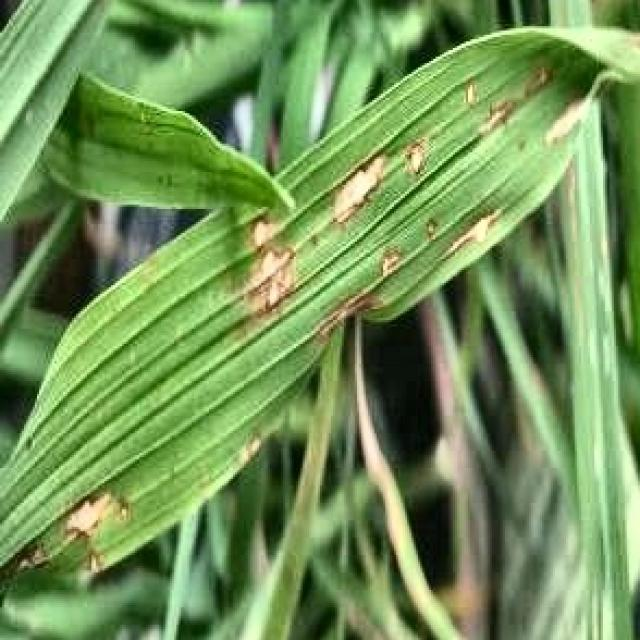Leaf_Blast: (200, 128, 452, 342), (450, 30, 640, 272)
